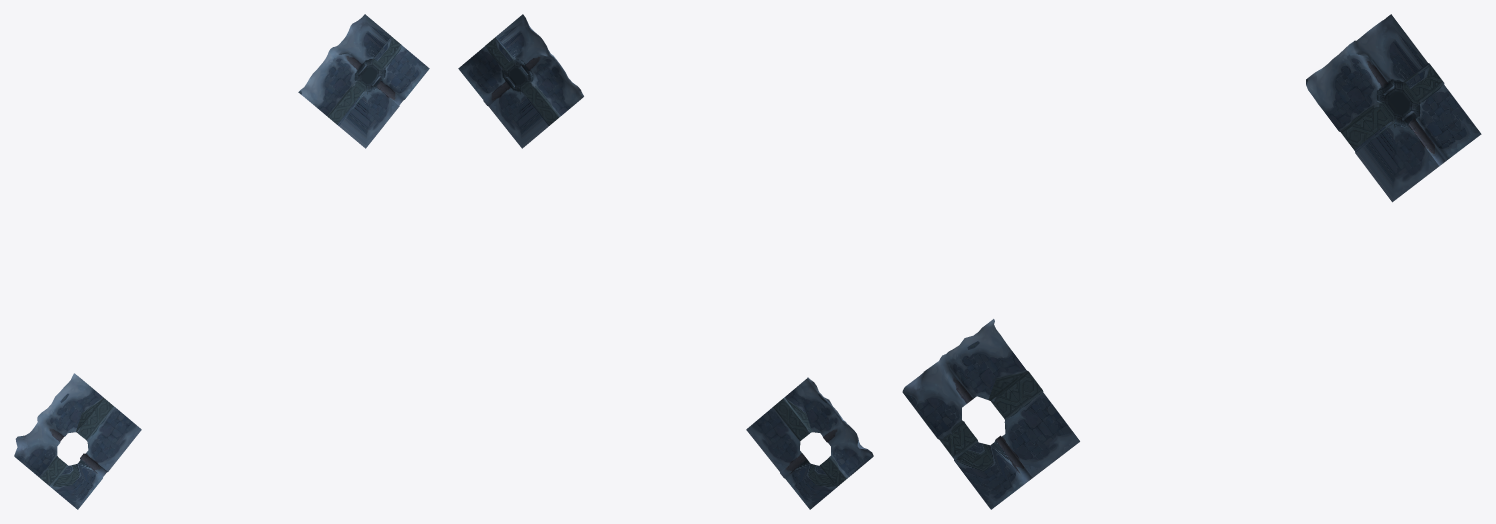
File: LM_Stairs_Lane.FBX
3 renders of one model, left to right at view 1: azimuth 30°, elevation 25°; view 2: azimuth 150°, elevation 25°; view 3: azimuth 330°, elevation 25°, orthographic. The views are drawn at different scales.
Visible parts, largest first — view 1: MeshData009, MeshData003, MeshData011, MeshData002, MeshData004, MeshData001, MeshData010, MeshData006, MeshData007, MeshData005, MeshData012; view 2: MeshData003, MeshData009, MeshData011, MeshData002, MeshData004, MeshData001, MeshData006, MeshData007, MeshData005, MeshData010, MeshData012; view 3: MeshData009, MeshData003, MeshData011, MeshData002, MeshData004, MeshData001, MeshData007, MeshData006, MeshData010, MeshData005, MeshData012.
Part boxes in pixels (x1,y1,x2,y2): MeshData009: [308, 50, 373, 125]; MeshData003: [76, 400, 141, 487]; MeshData011: [362, 36, 429, 113]; MeshData002: [19, 413, 75, 487]; MeshData004: [35, 373, 88, 431]; MeshData001: [51, 464, 94, 509]; MeshData010: [325, 14, 368, 64]; MeshData006: [339, 92, 366, 148]; MeshData007: [365, 92, 392, 148]; MeshData005: [76, 385, 108, 435]; MeshData012: [363, 16, 391, 57]; MeshData003: [746, 400, 810, 487]; MeshData009: [514, 50, 579, 125]; MeshData011: [458, 37, 524, 113]; MeshData002: [812, 413, 868, 487]; MeshData004: [799, 377, 851, 431]; MeshData001: [793, 464, 836, 509]; MeshData006: [521, 92, 548, 148]; MeshData007: [495, 92, 522, 148]; MeshData005: [778, 385, 811, 435]; MeshData010: [519, 14, 558, 62]; MeshData012: [495, 16, 524, 58]; MeshData009: [1313, 51, 1402, 152]; MeshData003: [990, 373, 1079, 490]; MeshData011: [1389, 63, 1481, 172]; MeshData002: [909, 358, 987, 460]; MeshData004: [933, 319, 1005, 399]; MeshData001: [954, 442, 1015, 509]; MeshData007: [1392, 124, 1430, 201]; MeshData006: [1355, 124, 1393, 201]; MeshData010: [1338, 14, 1396, 70]; MeshData005: [988, 343, 1035, 409]; MeshData012: [1389, 18, 1429, 82].
Bounding box in the file's own units: 7268 × 7118 × 204.
